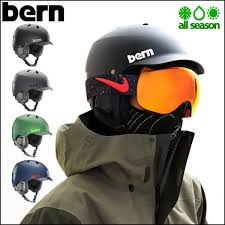helmet: (89, 26, 201, 79)
